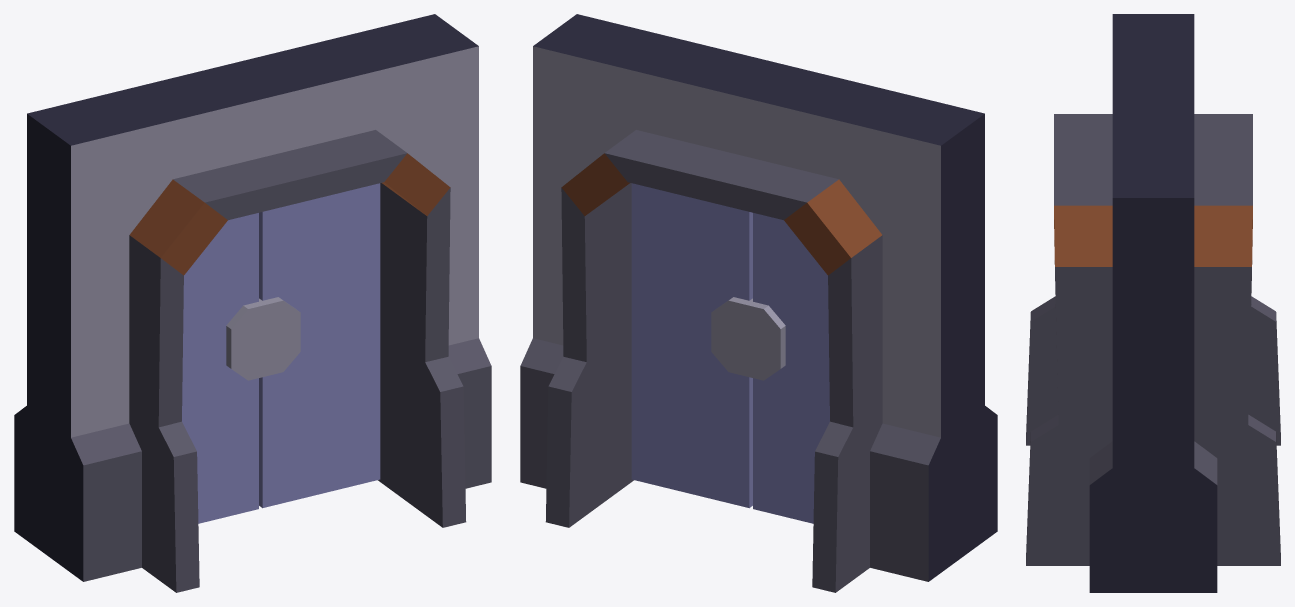
Rendered from DoorSlide.fbx.
The picture shows the model from 3 angles, left to right: view 1: azimuth 30°, elevation 25°; view 2: azimuth 150°, elevation 25°; view 3: azimuth 270°, elevation 25°; orthographic projection. The views are drawn at different scales.
Parts seen in each view (by area): view 1: DoorOutside, DoorOutside(Door2), DoorOutside(Door1); view 2: DoorOutside, DoorOutside(Door2), DoorOutside(Door1); view 3: DoorOutside.
Part boxes in pixels (<box>): DoorOutside: <box>14,14,491,592</box>; DoorOutside(Door2): <box>259,183,380,508</box>; DoorOutside(Door1): <box>182,213,267,523</box>; DoorOutside: <box>520,14,997,592</box>; DoorOutside(Door2): <box>631,183,752,508</box>; DoorOutside(Door1): <box>745,213,829,523</box>; DoorOutside: <box>1026,14,1280,592</box>.
Bounding box in the file's own units: 200 × 200 × 117.
